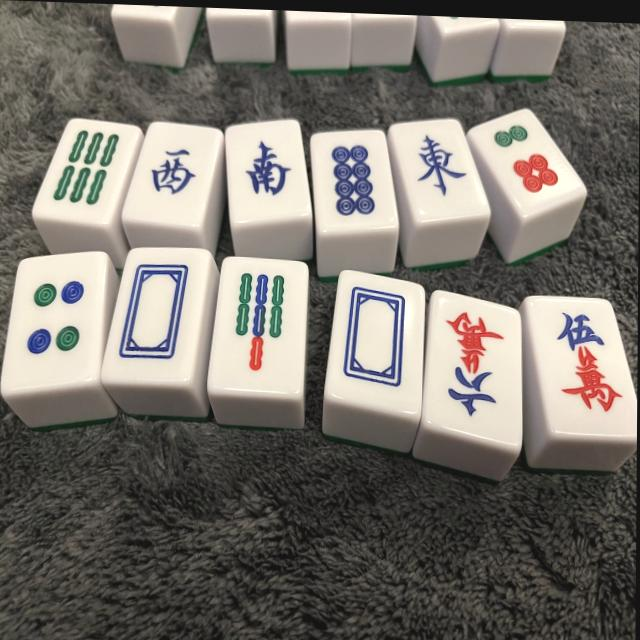4D: (3, 251, 110, 401)
5C: (526, 299, 637, 440)
6B: (31, 115, 141, 223)
6C: (426, 292, 526, 448)
6D: (470, 106, 589, 220)
7B: (205, 255, 307, 395)
8D: (310, 126, 399, 235)
EW: (388, 118, 489, 228)
SW: (226, 118, 314, 227)
WD: (102, 248, 213, 390), (328, 269, 424, 416)
WW: (123, 120, 224, 228)
